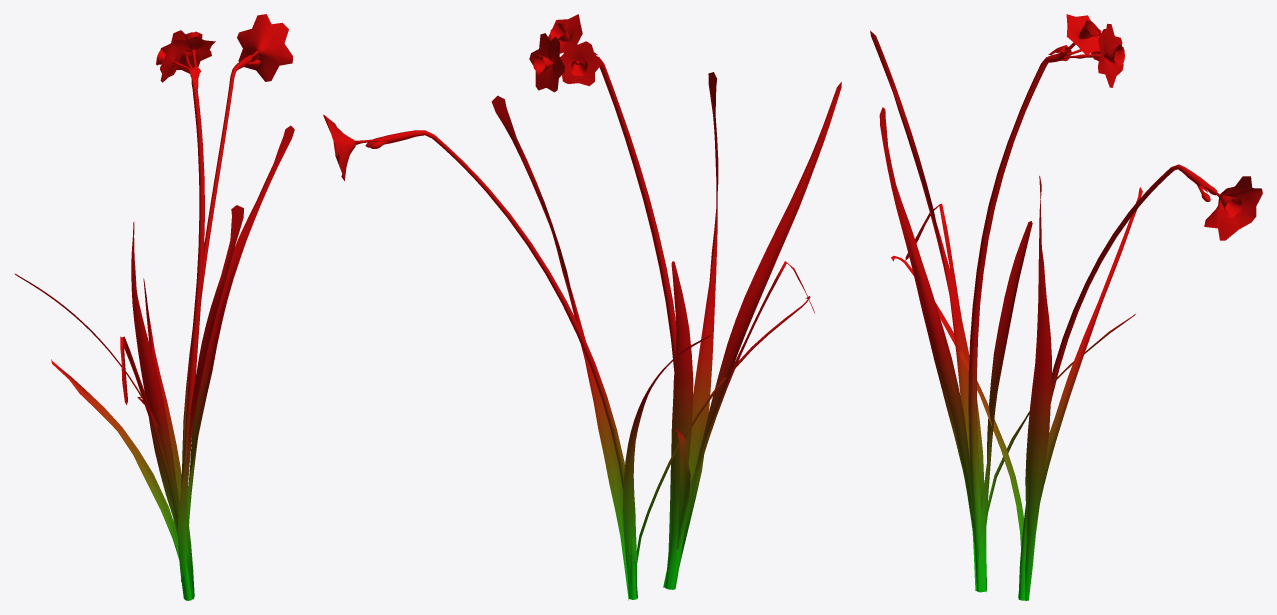
File: Rush Daffodil_LOD0_Var5_wftgfjaia.fbx
3 views of the same model, side by side, from view 1: azimuth 30°, elevation 25°; view 2: azimuth 150°, elevation 25°; view 3: azimuth 270°, elevation 25° (orthographic). The views are drawn at different scales.
Visible parts, largest first — view 1: _ki28_var5_LOD0; view 2: _ki28_var5_LOD0; view 3: _ki28_var5_LOD0.
Part boxes in pixels (left/top/right/bottom): _ki28_var5_LOD0: left=14, top=14, right=294, bottom=600; _ki28_var5_LOD0: left=323, top=14, right=841, bottom=600; _ki28_var5_LOD0: left=870, top=14, right=1262, bottom=600.
Bounding box in the file's own units: 21.8 × 35.35 × 20.9.
